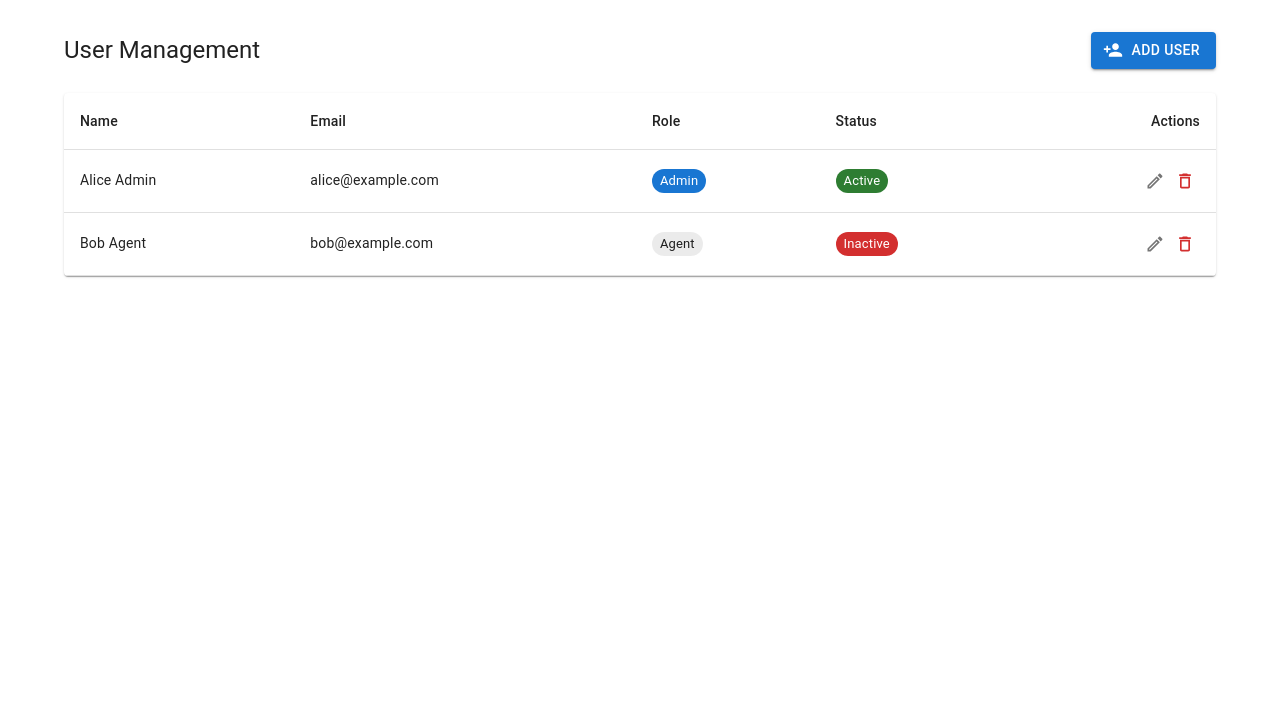
Test case: UsersPage › delete user › opens the delete confirmation dialog with the user's details
Expected: the text "Bob Agent" is shown, [64,212,294,275]
Click the button named "delete bob agent" at (1185, 244), box [1170,228,1200,258]
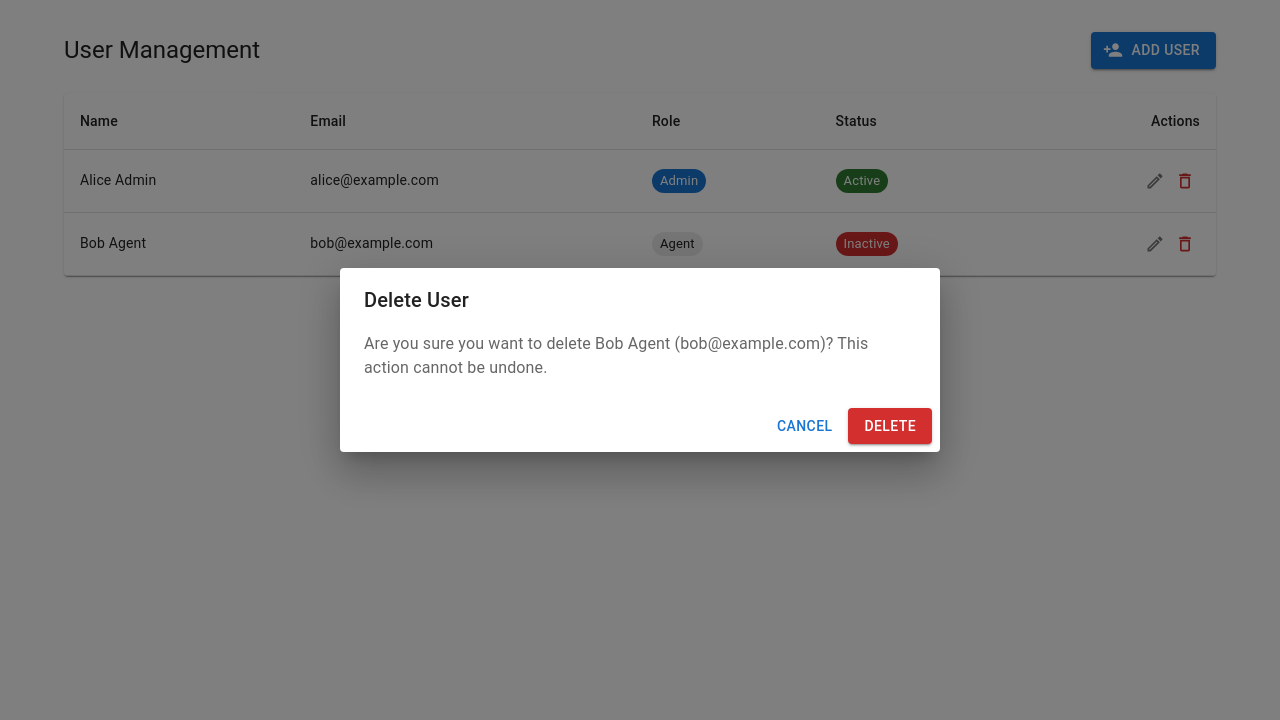
Result: the text "Bob Agent" is shown at [595,334,670,353]
Result: the text "bob@example.com" is shown at [680,334,820,353]
